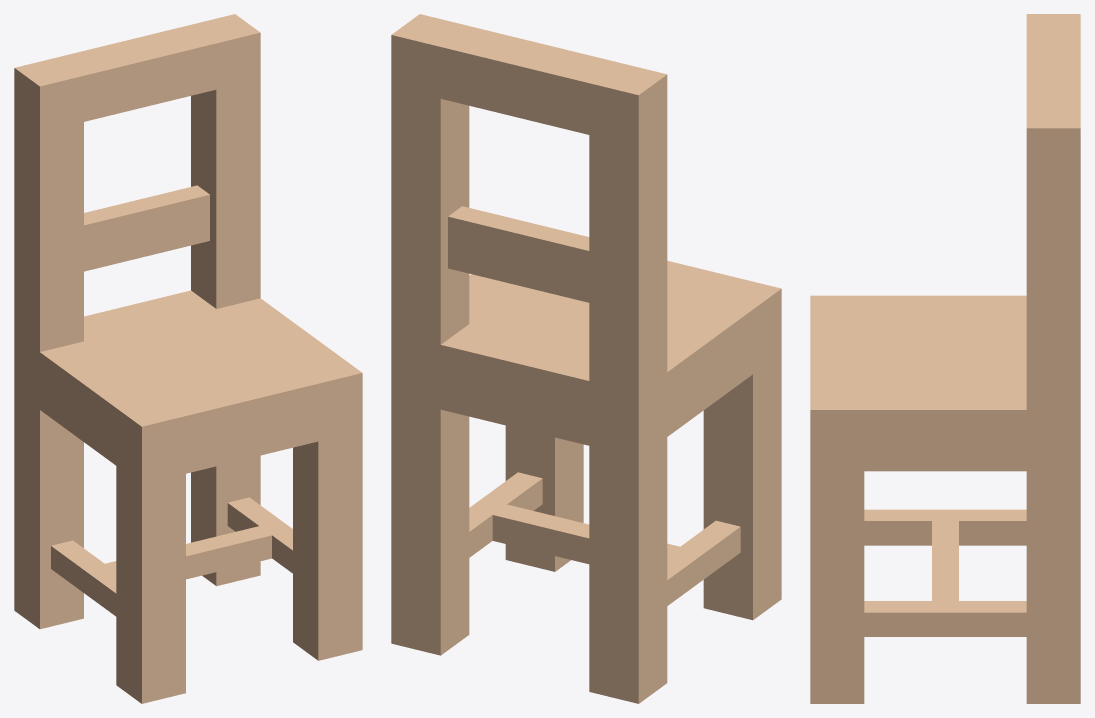
The model's file is chair.glb.
The picture shows the model from 3 angles, left to right: view 1: azimuth 30°, elevation 25°; view 2: azimuth 150°, elevation 25°; view 3: azimuth 270°, elevation 25°; orthographic projection. The views are drawn at different scales.
Visible parts, largest first — view 1: chair; view 2: chair; view 3: chair.
Part boxes in pixels (x1,y1,x2,y2): chair: [14, 14, 362, 703]; chair: [391, 14, 781, 703]; chair: [810, 14, 1080, 703].
Bounding box in the file's own units: 0.6 × 1.41 × 0.6.
